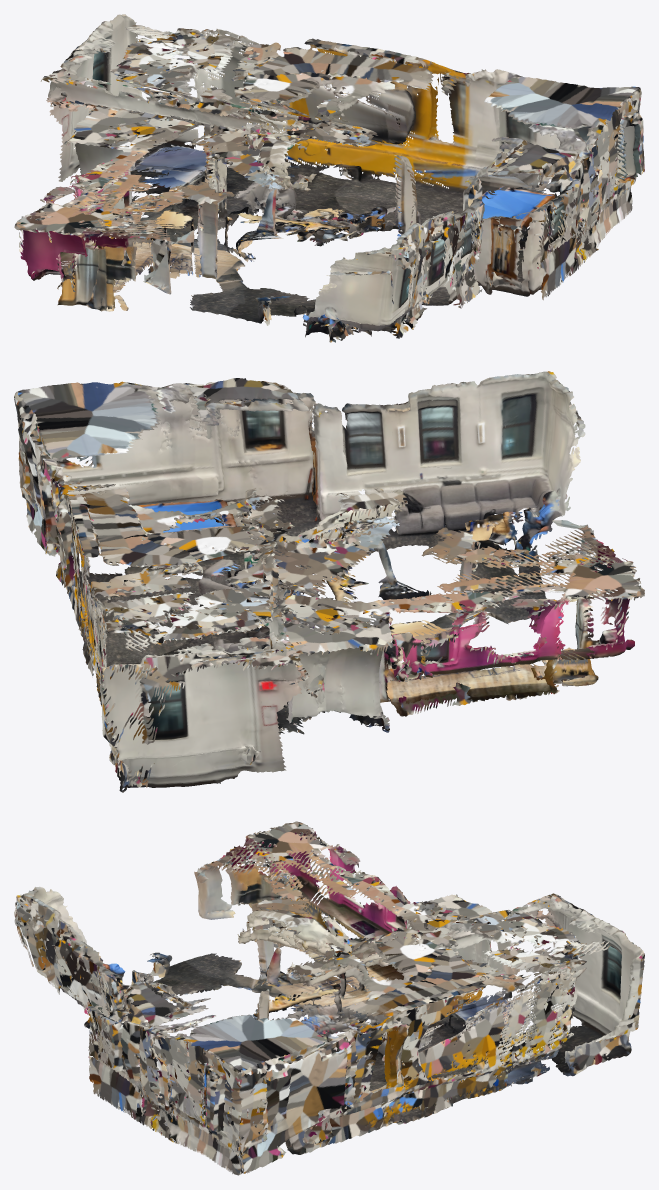
3 renders of one model, top to bottom at view 1: azimuth 30°, elevation 25°; view 2: azimuth 150°, elevation 25°; view 3: azimuth 270°, elevation 25°, orthographic. The views are drawn at different scales.
Parts seen in each view (by area): view 1: scan; view 2: scan; view 3: scan.
Boxes of the visible parts, x1=… form: scan: x1=14, y1=14, x2=644, y2=342; scan: x1=14, y1=371, x2=644, y2=792; scan: x1=14, y1=821, x2=644, y2=1175.
Bounding box in the file's own units: 13.21 × 3.32 × 13.2.
1 material, 1 textured.
